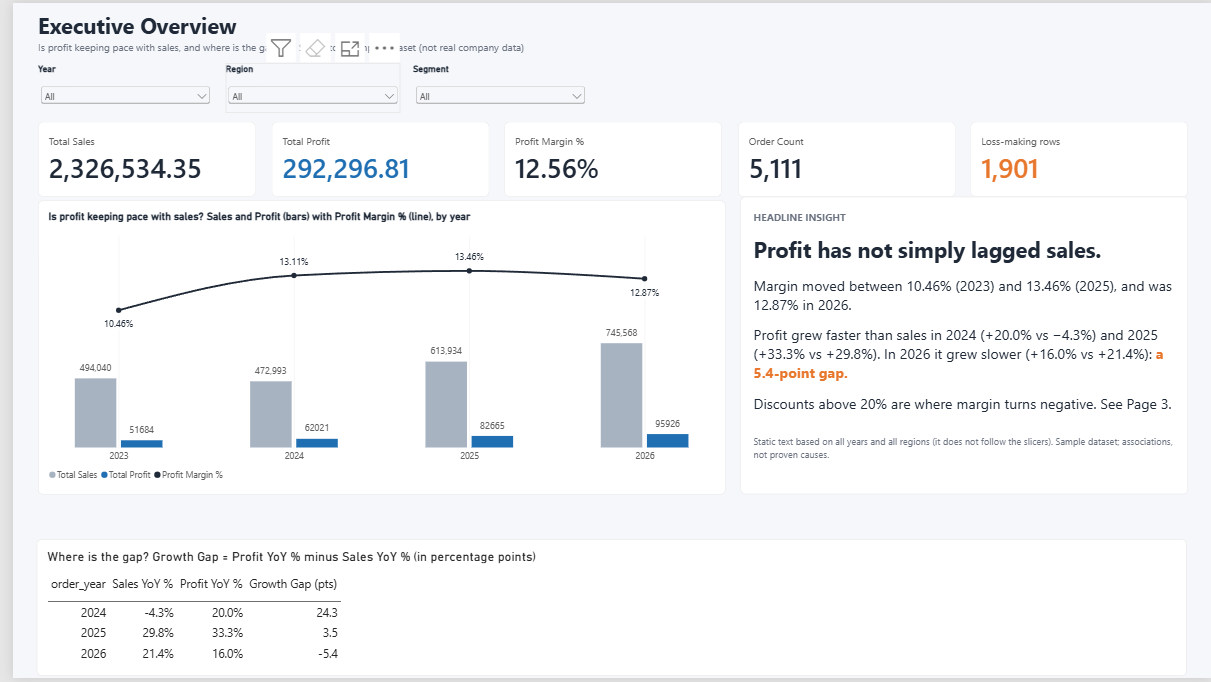

What the dashboard file says about the page in this screenshot:
{"tool":"powerbi","page":{"name":"Executive Overview","canvas":[1920,1080],"ordinal":0},"visuals":[{"type":"textbox","box":[40,12,1500,80],"z":10},{"type":"slicer","title":"Year","fields":{"Values":["Orders.order_year"]},"box":[40,96,280,80],"z":20},{"type":"slicer","title":"Region","fields":{"Values":["Orders.region"]},"box":[340,96,280,80],"z":21},{"type":"slicer","title":"Segment","fields":{"Values":["Orders.segment"]},"box":[640,96,280,80],"z":22},{"type":"lineClusteredColumnComboChart","title":"Is profit keeping pace with sales? Sales and Profit (bars) with Profit Margin % (line), by year","fields":{"Category":["Orders.order_year"],"Y":["Orders.Total Sales","Orders.Total Profit"],"Y2":["Orders.Profit Margin %"]},"box":[40,316,1100,470],"z":30},{"type":"textbox","box":[1164,310,716,476],"z":40},{"type":"cardVisual","fields":{"Data":["Orders.Total Sales"]},"box":[40,190,348,120],"z":1000},{"type":"cardVisual","fields":{"Data":["Orders.Total Profit"]},"box":[413,190,348,120],"z":2000},{"type":"cardVisual","fields":{"Data":["Orders.Profit Margin %"]},"box":[786,190,348,120],"z":3000},{"type":"cardVisual","fields":{"Data":["Orders.Order Count"]},"box":[1159,190,348,120],"z":4000},{"type":"cardVisual","fields":{"Data":["Orders.Loss Rows"]},"box":[1532,190,348,120],"z":5000},{"type":"tableEx","title":"Where is the gap? Growth Gap = Profit YoY % minus Sales YoY % (in percentage points)","fields":{"Values":["Orders.order_year","Orders.Sales YoY %","Orders.Profit YoY %","Orders.Growth Gap (pts)"]},"box":[38,858,1840,218],"z":5001}]}

Visuals, with their boxes in screenshot pixels (x1, y1, x2, y2), scaled from the page's 1920x1080 canvas onto the 1211x682 screenshot:
textbox: x1=25 y1=8 x2=971 y2=58
"Year" slicer: x1=25 y1=61 x2=202 y2=111
"Region" slicer: x1=214 y1=61 x2=391 y2=111
"Segment" slicer: x1=404 y1=61 x2=580 y2=111
"Is profit keeping pace with sales? Sales and Profit (bars) with Profit Margin % (line), by year" lineClusteredColumnComboChart: x1=25 y1=200 x2=719 y2=496
textbox: x1=734 y1=196 x2=1186 y2=496
cardVisual - Orders.Total Sales: x1=25 y1=120 x2=245 y2=196
cardVisual - Orders.Total Profit: x1=260 y1=120 x2=480 y2=196
cardVisual - Orders.Profit Margin %: x1=496 y1=120 x2=715 y2=196
cardVisual - Orders.Order Count: x1=731 y1=120 x2=951 y2=196
cardVisual - Orders.Loss Rows: x1=966 y1=120 x2=1186 y2=196
"Where is the gap? Growth Gap = Profit YoY % minus Sales YoY % (in percentage points)" tableEx: x1=24 y1=542 x2=1185 y2=679
